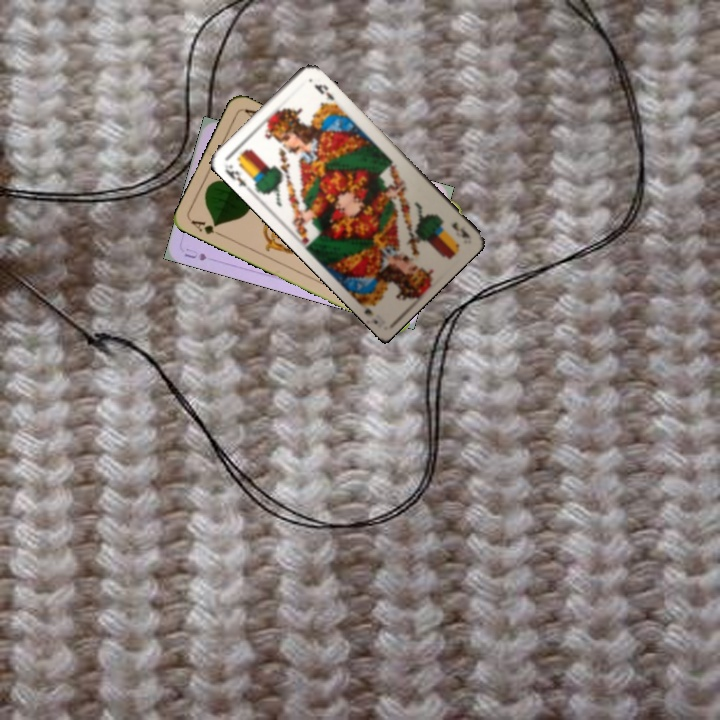EK: (220, 160, 249, 190), (447, 218, 471, 241)
GA: (187, 216, 226, 239)
SU: (180, 244, 209, 263)
